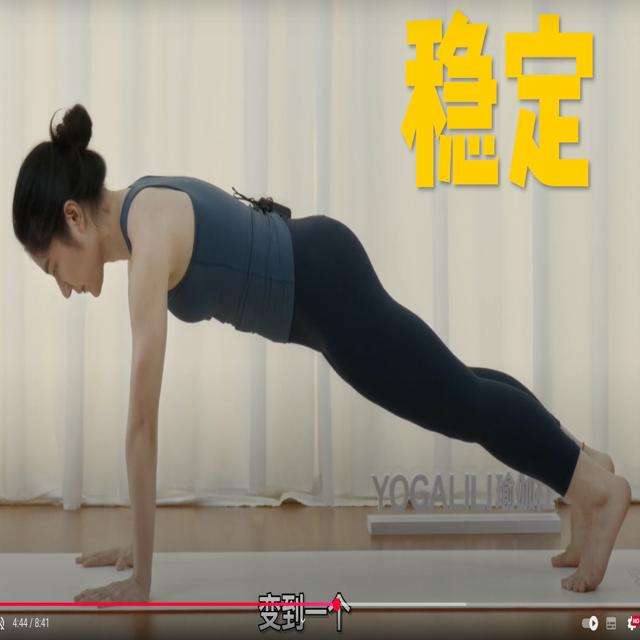Plank_Pose: (3, 104, 640, 605)
